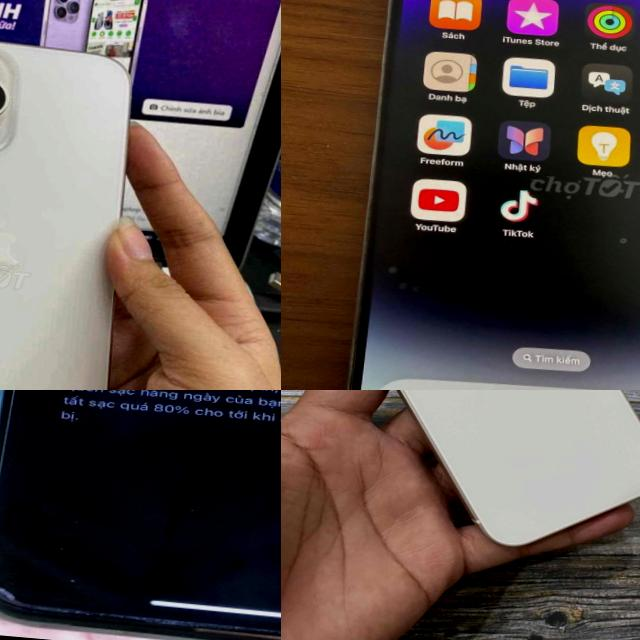scratch: (376, 252, 437, 306), (0, 581, 21, 609)
screen_defect: (603, 222, 640, 256)
